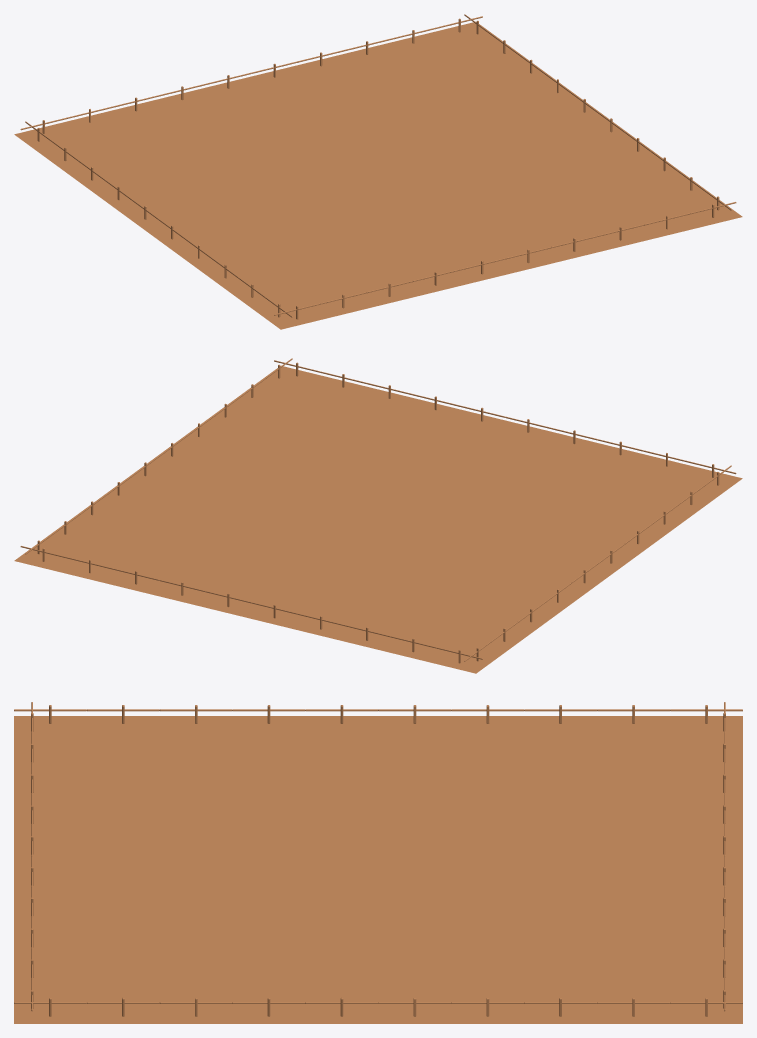
File: land_farm.glb
3 renders of one model, top to bottom at view 1: azimuth 30°, elevation 25°; view 2: azimuth 150°, elevation 25°; view 3: azimuth 270°, elevation 25°, orthographic. The views are drawn at different scales.
Parts seen in each view (by area): view 1: land_farm; view 2: land_farm; view 3: land_farm.
Boxes of the visible parts, box(x1,y1,x2,y2) form: land_farm: box(14, 14, 742, 329); land_farm: box(14, 358, 742, 673); land_farm: box(14, 702, 742, 1023).
Bounding box in the file's own units: 40 × 1.1 × 40.
1 material, 1 textured.
